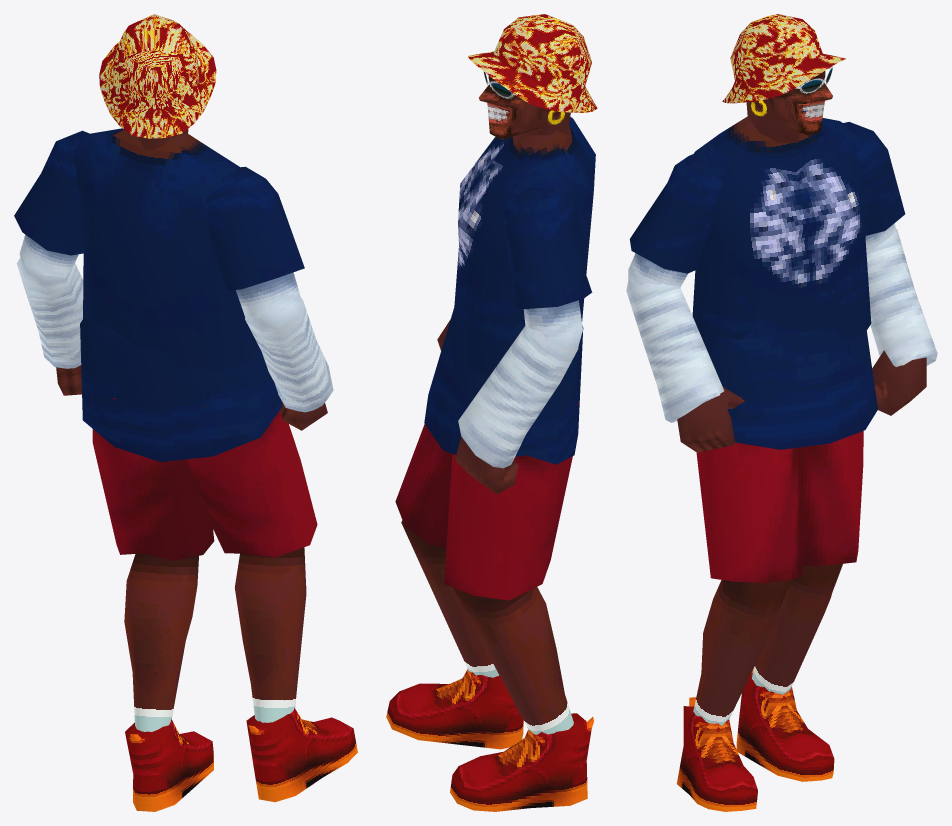
Rendered from driver-bdjoe.glb.
3 renders of one model, left to right at view 1: azimuth 30°, elevation 25°; view 2: azimuth 150°, elevation 25°; view 3: azimuth 270°, elevation 25°, orthographic. The views are drawn at different scales.
Visible parts, largest first — view 1: m1236, m1244, m1242, m1221, m1239, m1238, m1241, m1234, m1240, m1237, m1233, m1227 (+5 smaller); view 2: m1236, m1239, m1238, m1237, m1226, m1227, m1221, m1244, m1240, m1242, m1241, m1218 (+2 smaller); view 3: m1236, m1244, m1242, m1241, m1233, m1239, m1234, m1221, m1237, m1226, m1240, m1238 (+5 smaller).
Part boxes in pixels (x1,y1,x2,y2): m1236: [73, 128, 258, 370]; m1244: [80, 317, 282, 461]; m1242: [186, 410, 317, 557]; m1221: [99, 14, 216, 138]; m1239: [92, 429, 214, 560]; m1238: [124, 553, 198, 731]; m1241: [234, 547, 306, 722]; m1234: [206, 166, 304, 290]; m1240: [246, 708, 357, 802]; m1237: [125, 719, 213, 811]; m1233: [245, 298, 333, 412]; m1227: [14, 130, 89, 255]; m1236: [453, 117, 595, 377]; m1239: [444, 454, 572, 600]; m1238: [453, 587, 573, 734]; m1237: [450, 713, 593, 811]; m1226: [458, 326, 578, 468]; m1227: [503, 187, 592, 309]; m1221: [468, 14, 597, 112]; m1244: [424, 308, 583, 464]; m1240: [386, 669, 523, 749]; m1242: [395, 424, 452, 548]; m1241: [401, 520, 499, 677]; m1218: [479, 76, 570, 145]; m1236: [692, 116, 871, 356]; m1244: [710, 329, 877, 449]; m1242: [696, 442, 802, 583]; m1241: [693, 579, 791, 725]; m1233: [626, 280, 724, 422]; m1239: [802, 431, 863, 566]; m1234: [629, 153, 722, 273]; m1221: [722, 14, 846, 103]; m1237: [736, 669, 834, 781]; m1226: [866, 229, 937, 366]; m1240: [676, 697, 757, 811]; m1238: [752, 564, 842, 694].
Size of the model in its own units: 6.24 by 17.65 by 6.73.
Materials: 23 (23 with a texture image).
